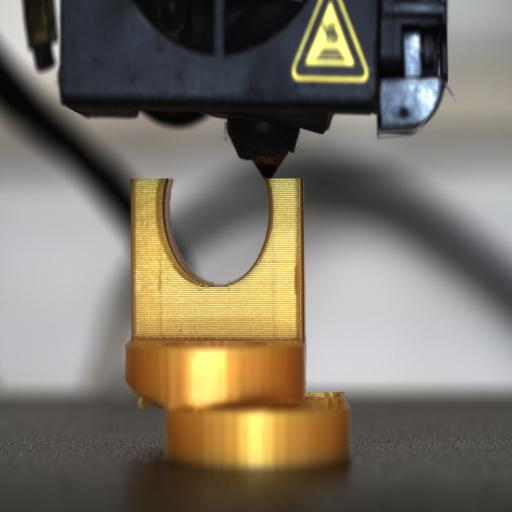layer_shift: (139, 389, 350, 420)
